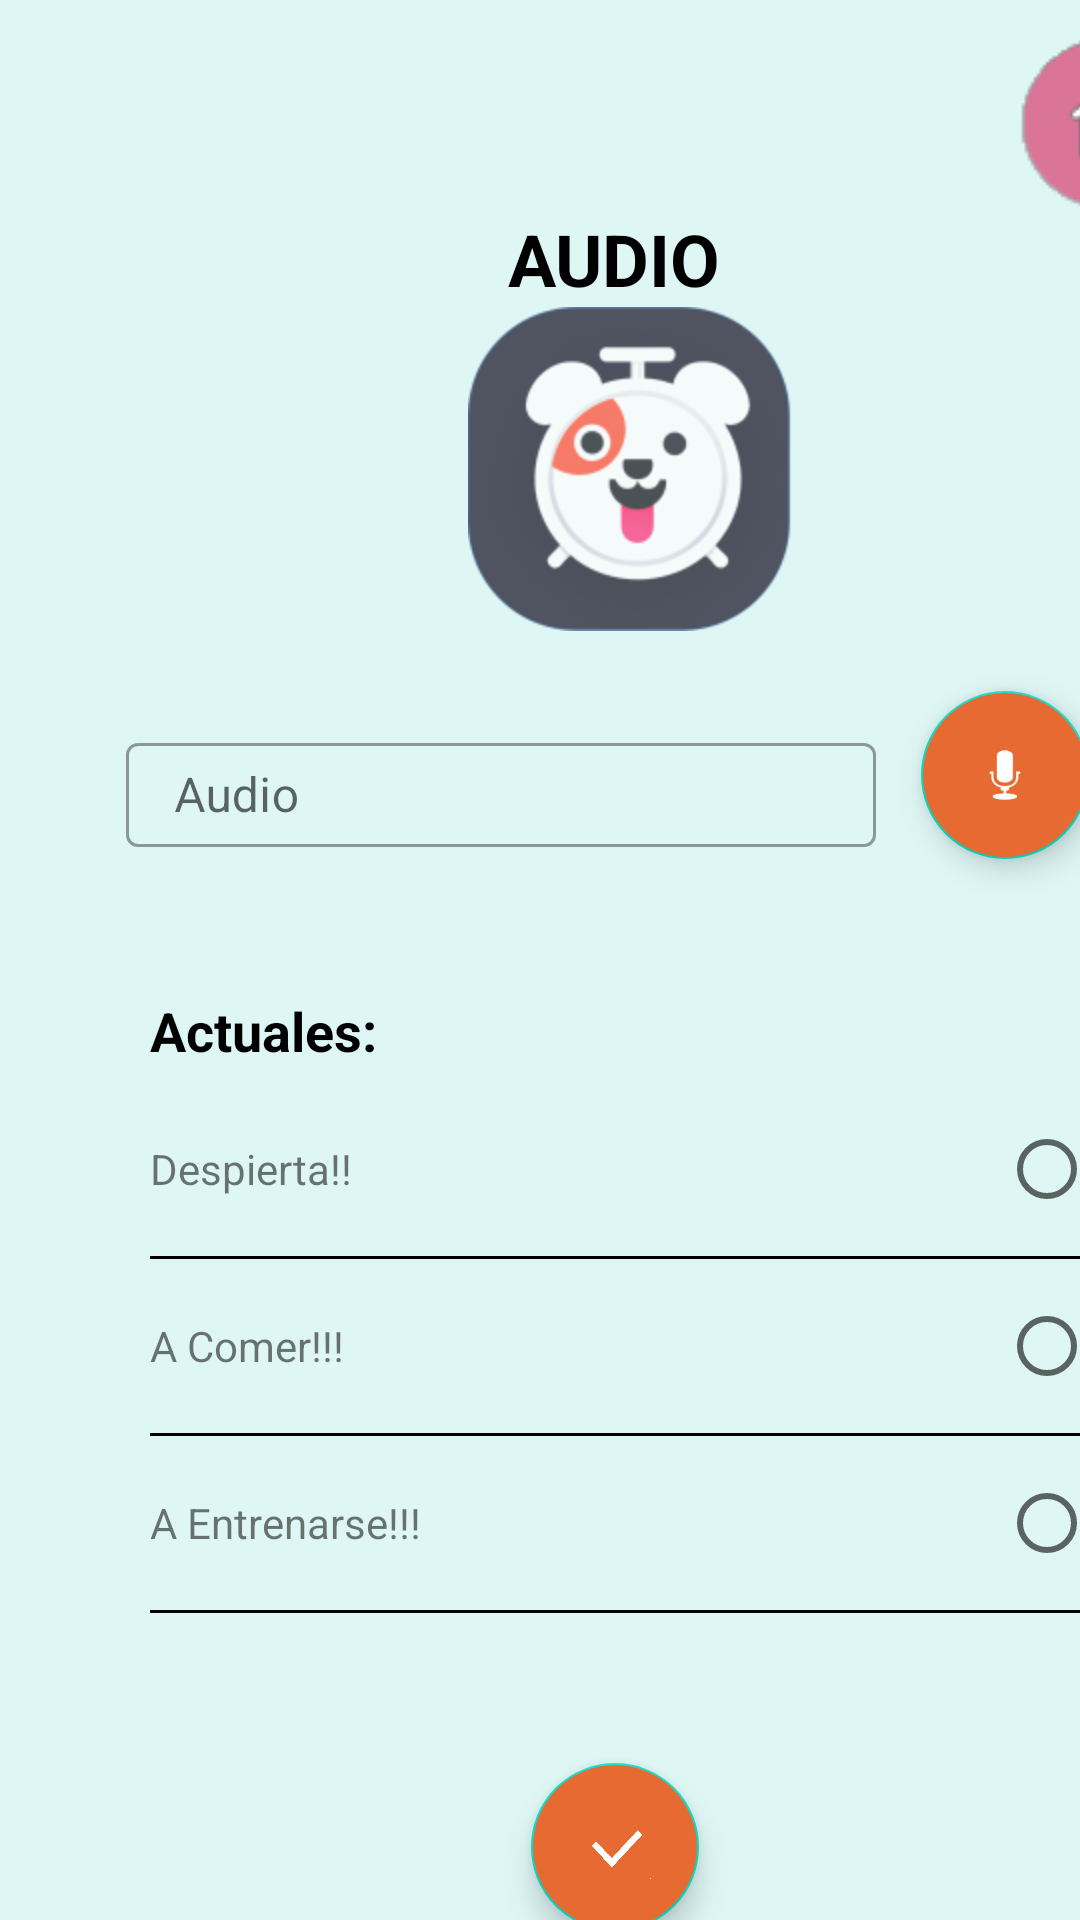

Screen size 1080×1920. Icon name, then its box in pixels as (x1, y1, x2, y2):
speak now: (921, 691, 1080, 859)
